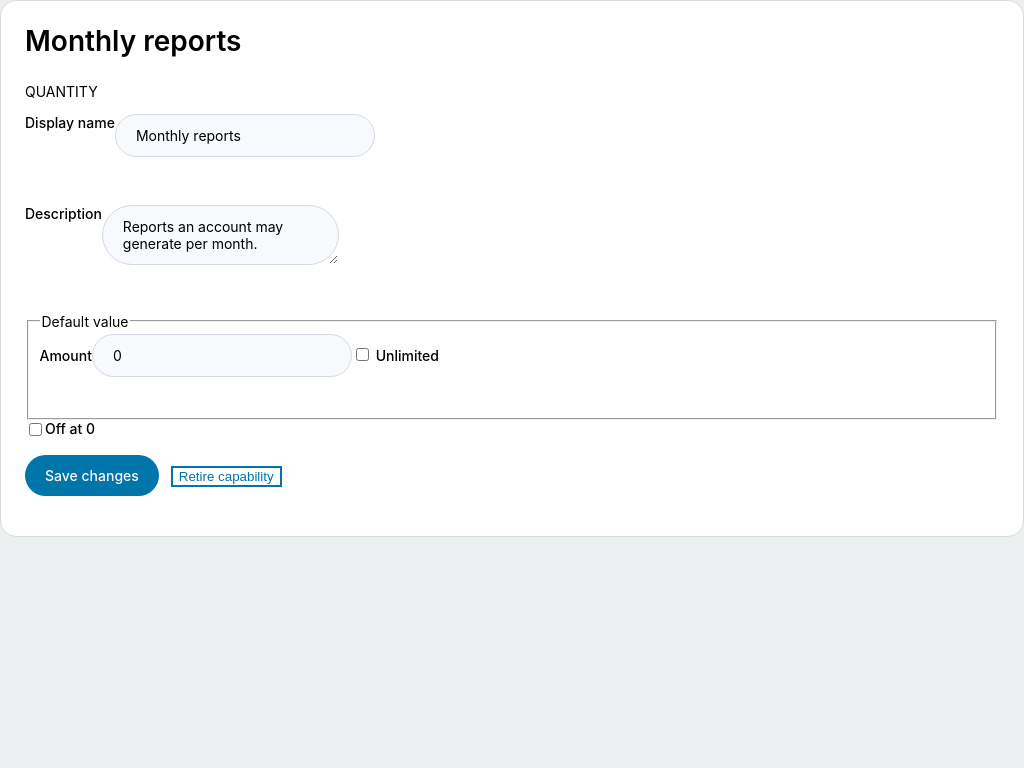
Test: CapabilityDetailRoute › retires with a confirmation naming usage, and offers no delete control
This screenshot has width=1024, height=768.
Expected: the heading "Monthly reports" is shown, [25,24,241,58]
Click the button "Retire capability": point(226, 477) [171,466,282,487]
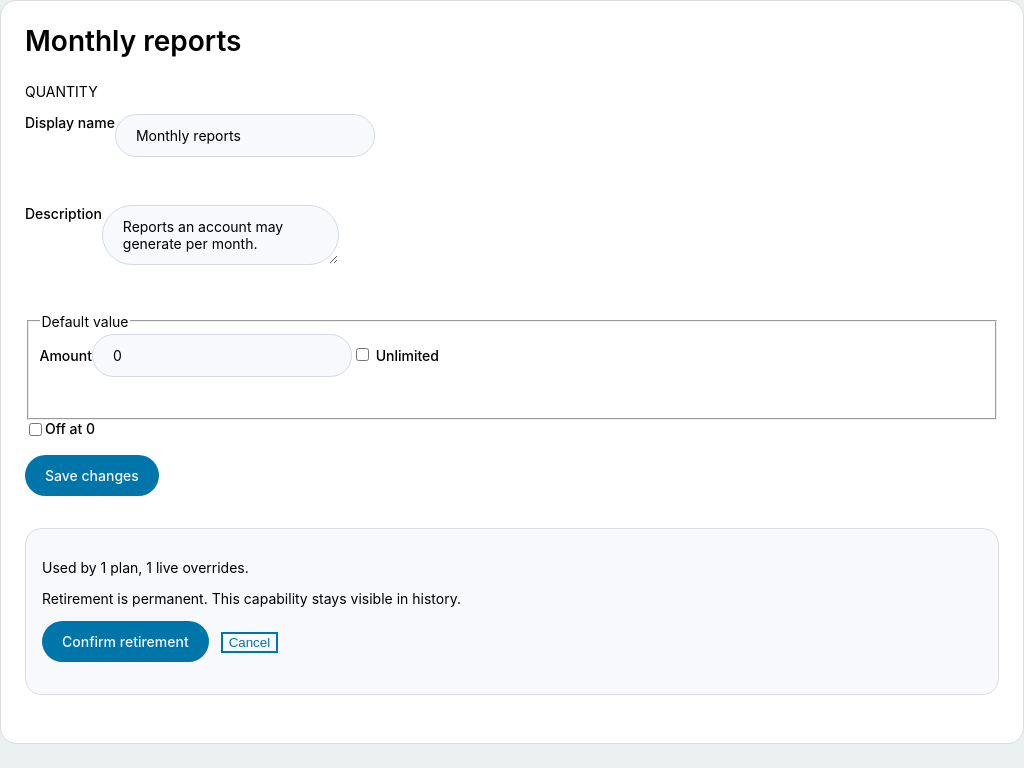
Now the text "Used by 1 plan, 1 live overrides." is shown, box [42,559,249,576]
Now the text "permanent" is shown, box [42,590,461,607]
Click the button "Confirm retirement": point(125, 642) [42,621,209,662]
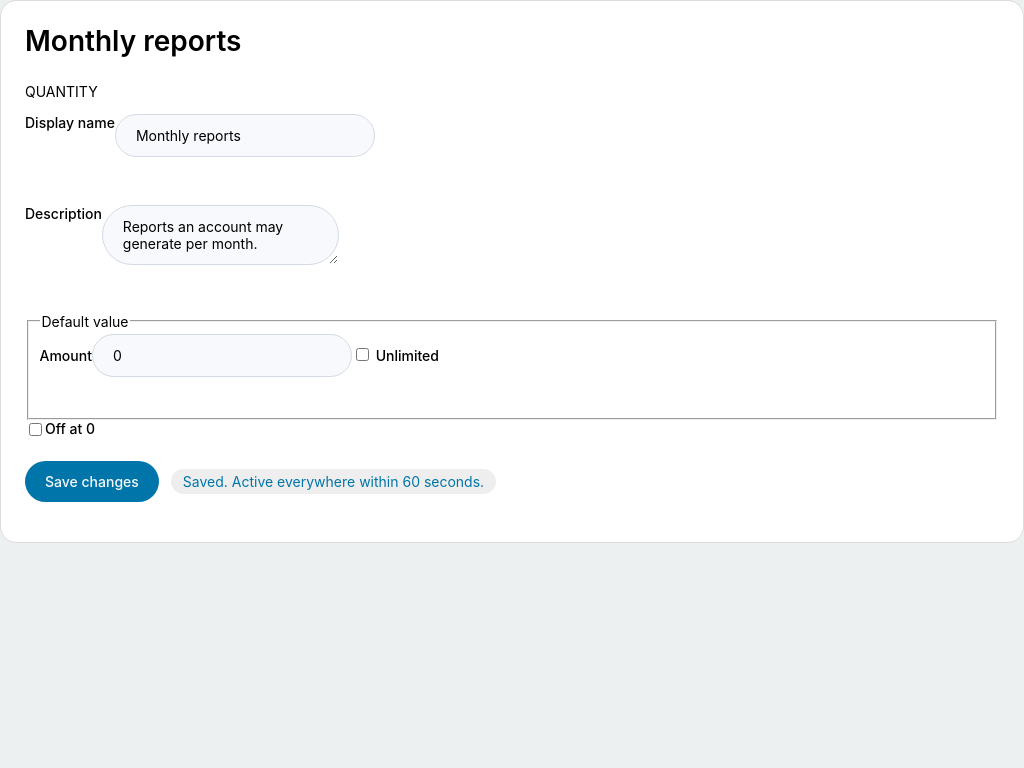
Now the text "Saved. Active everywhere within 60 seconds." is shown, box [171,469,496,494]
